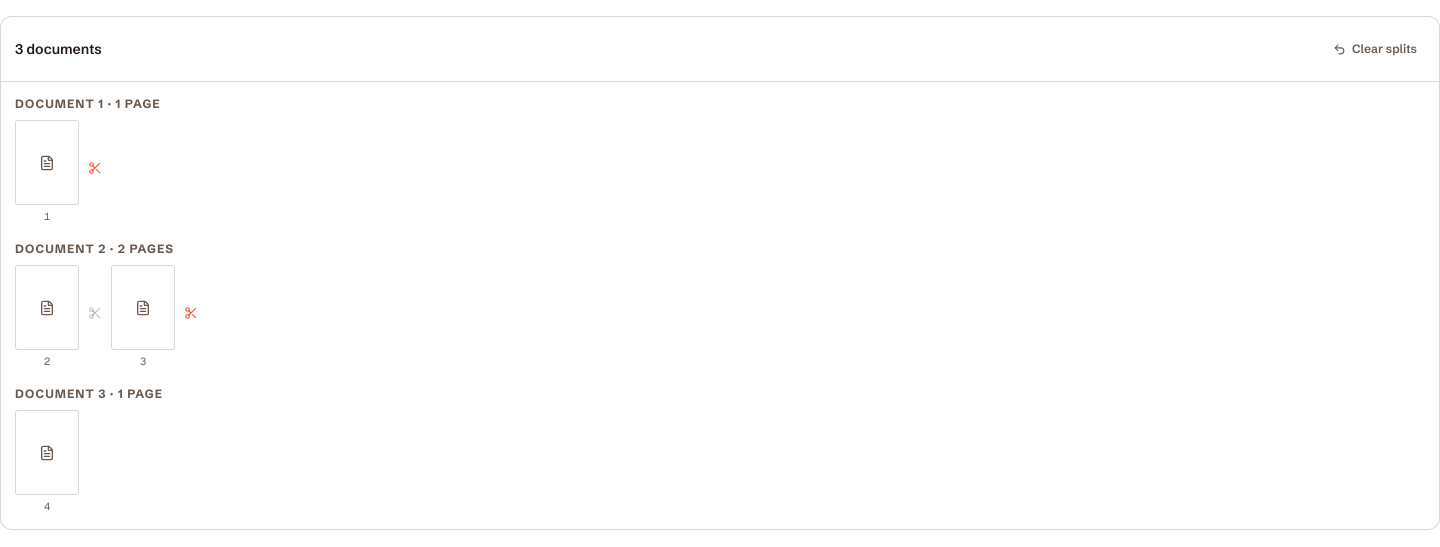
Scenario: DocumentSplits › clears every split at once
Check: the text "3 documents" is shown, box [15,39,102,59]
Click the button "Clear splits".
click(1375, 49)  # box [1325,27,1425,71]
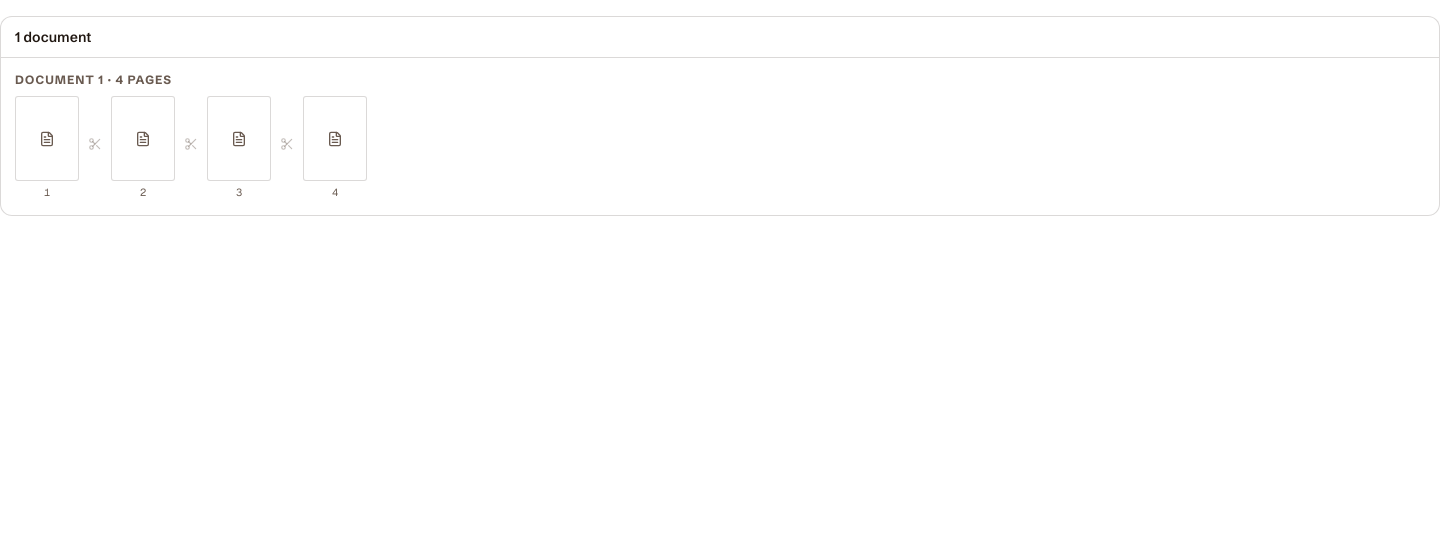
Check: the text "1 document" is shown, box [15,27,91,47]
